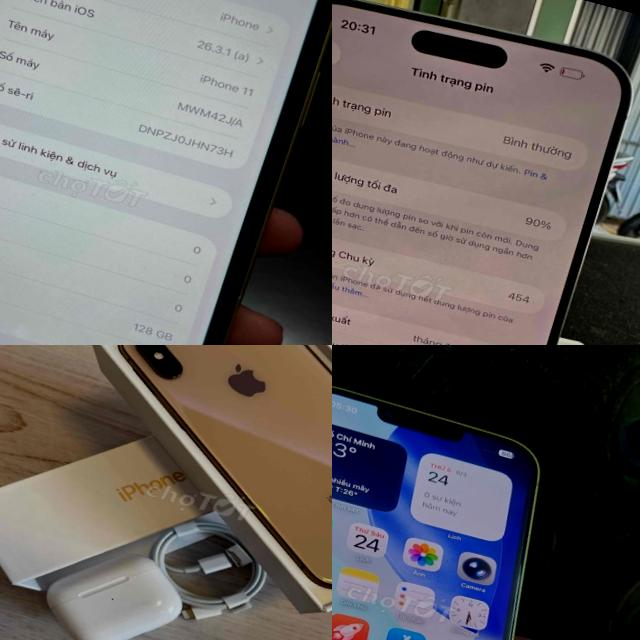gen_11: (0, 0, 332, 345)
gen_14: (332, 367, 601, 640)
gen_15: (332, 0, 640, 345)
gen_x_xs: (39, 345, 332, 640)
